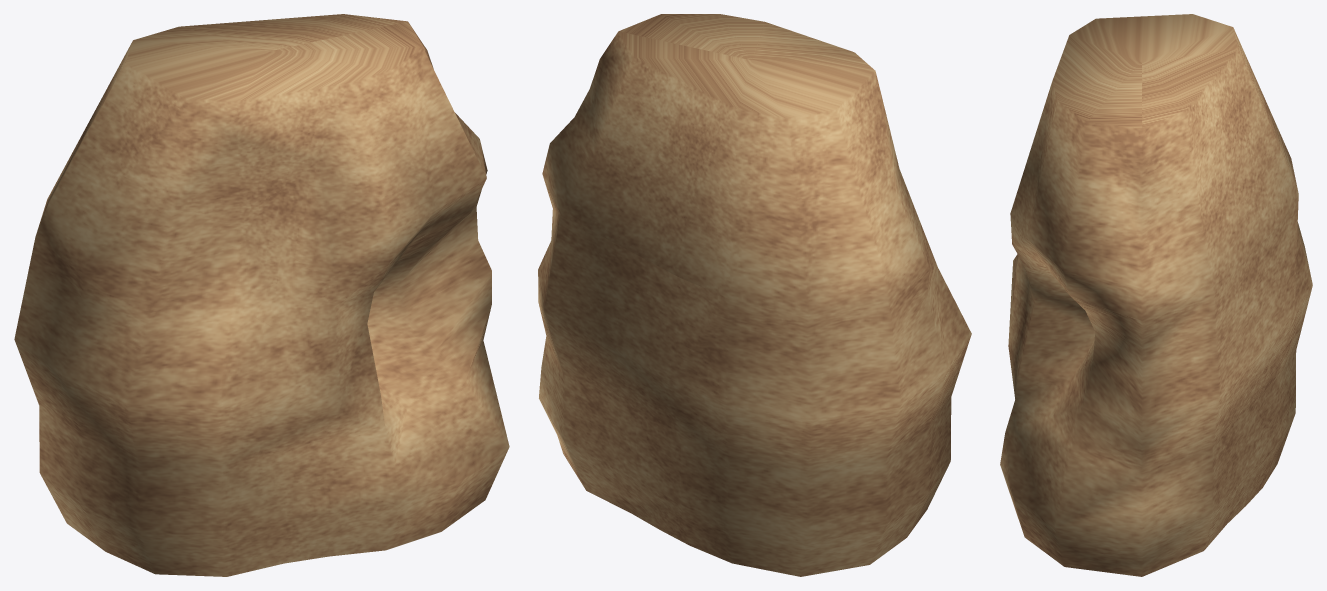
Rendered from rock_desert_carved_a_lod2.glb.
3 views of the same model, side by side, from view 1: azimuth 30°, elevation 25°; view 2: azimuth 150°, elevation 25°; view 3: azimuth 270°, elevation 25° (orthographic). The views are drawn at different scales.
Visible parts, largest first — view 1: rock_desert_carved_a; view 2: rock_desert_carved_a; view 3: rock_desert_carved_a.
Boxes of the visible parts, x1,y1,x2,y2 form: rock_desert_carved_a: (14,14,509,576); rock_desert_carved_a: (538,14,971,576); rock_desert_carved_a: (1000,14,1312,576).
Size of the model in its own units: 2.46 by 2.52 by 1.68.
1 material, 1 textured.
